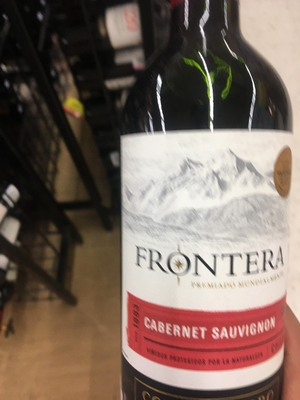frontera cabernet sauvignon: (113, 18, 300, 391)
